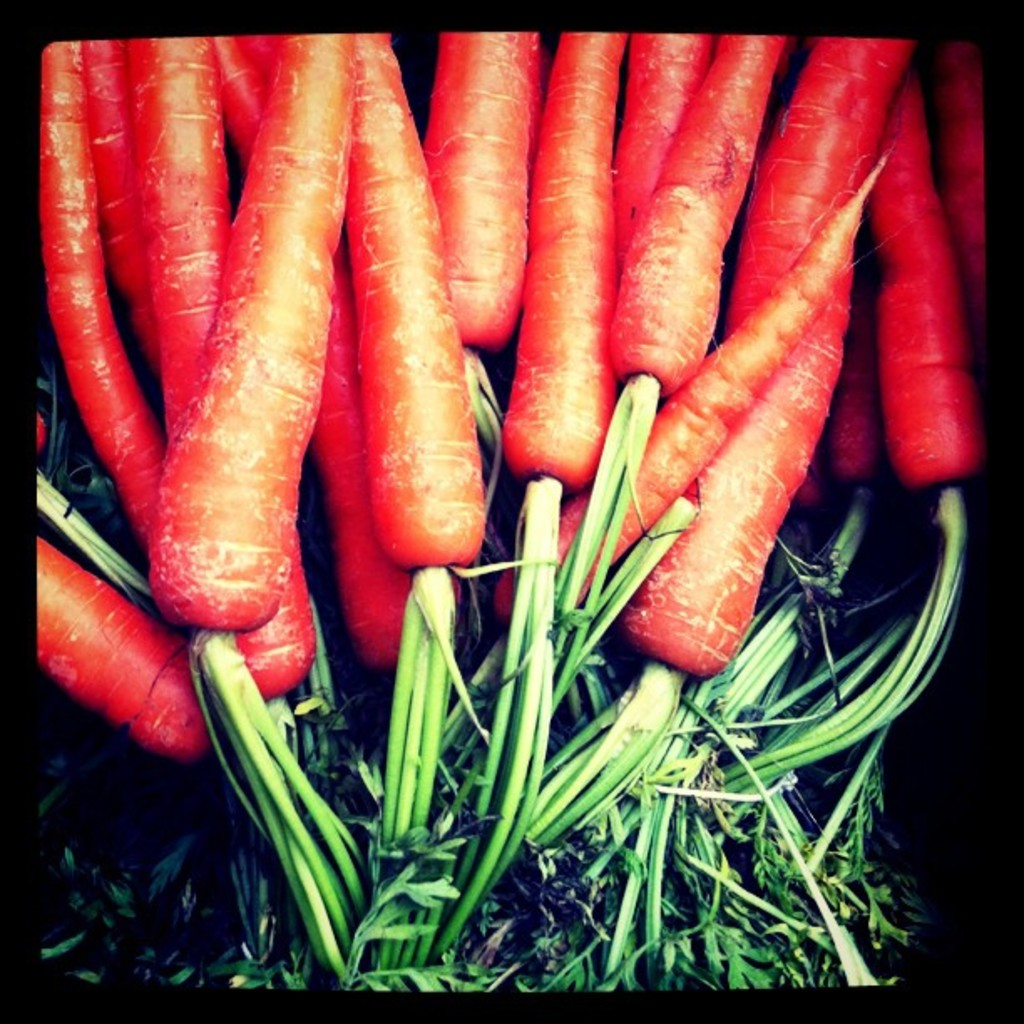Carrot: (35, 30, 983, 991)
